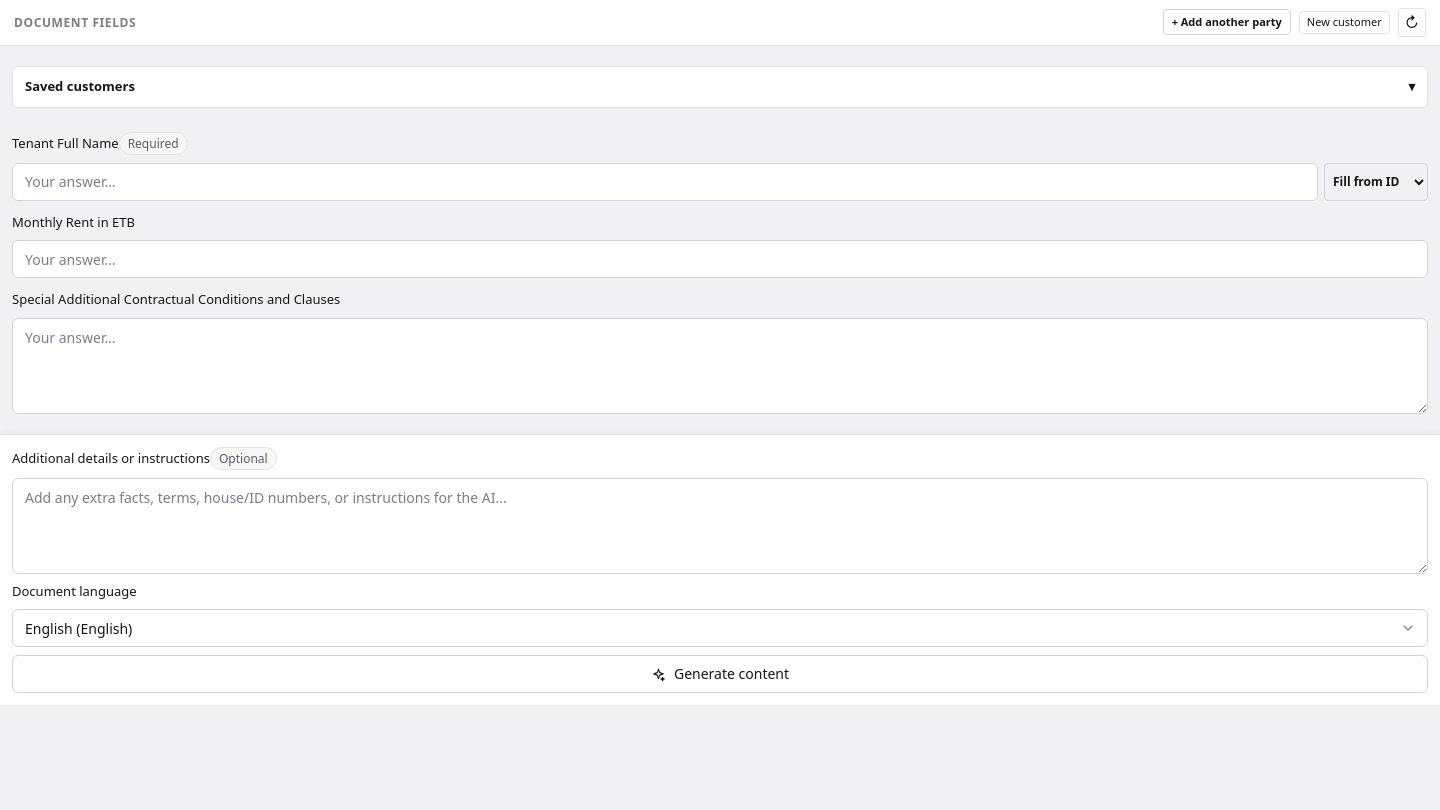
Test: Inline Telegram ID Mapping & Repeatable Co-Party Slots › selects Telegram ID for primary slot, sets name, displays verified pill and unlinks
The width and height of the screenshot is (1440, 810).
# Select Abebe Bikila (7392)
Select "Abebe Bikila (ID: 7392)" in the dropdown with test id "party-telegram-select-tenant_name-0" at (1376, 182), box [1324,163,1428,201]
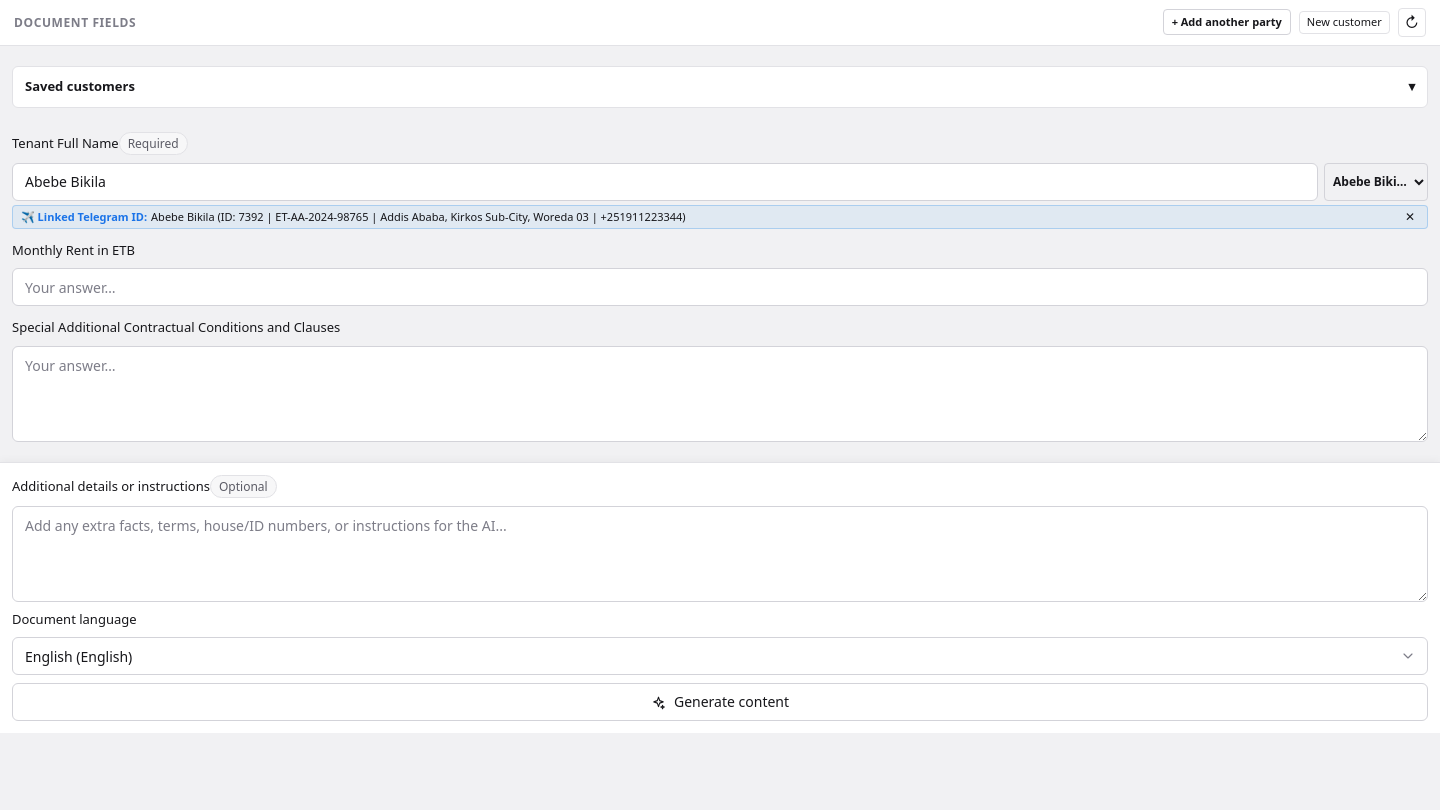
Expected: the element with test id "party-telegram-pill-tenant_name-0" shows "Abebe Bikila", [151,208,215,224]
Expected: the element with test id "party-telegram-pill-tenant_name-0" shows "ID: 7392", [12,205,1428,229]
# Unlink button clears the profile
Click the button with test id "unlink-party-telegram-tenant_name-0" at (1410, 217), box [1401,209,1419,225]
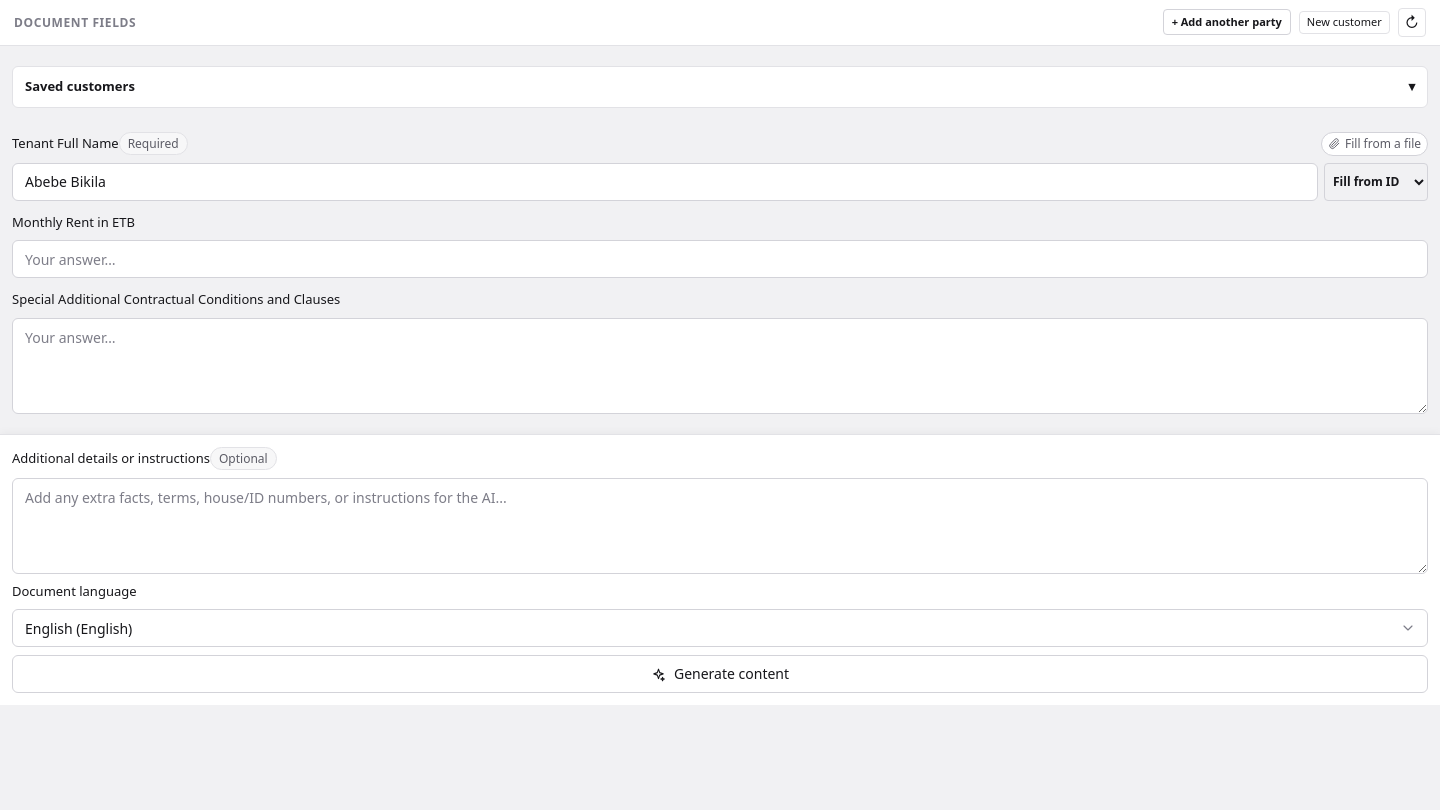
Expected: the element with test id "party-telegram-pill-tenant_name-0" is gone
